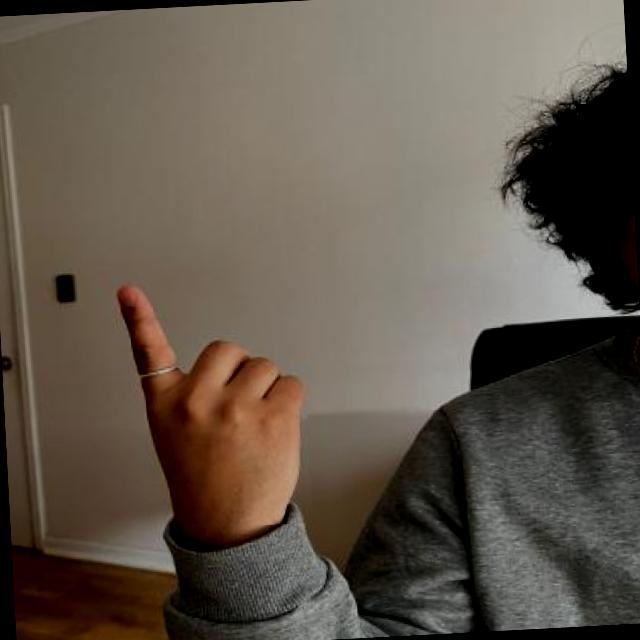T: (106, 259, 313, 533)
